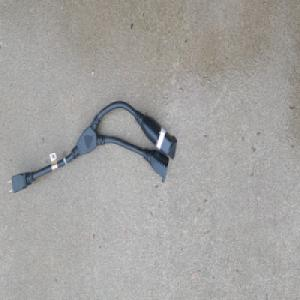Wire: (6, 99, 177, 195)
